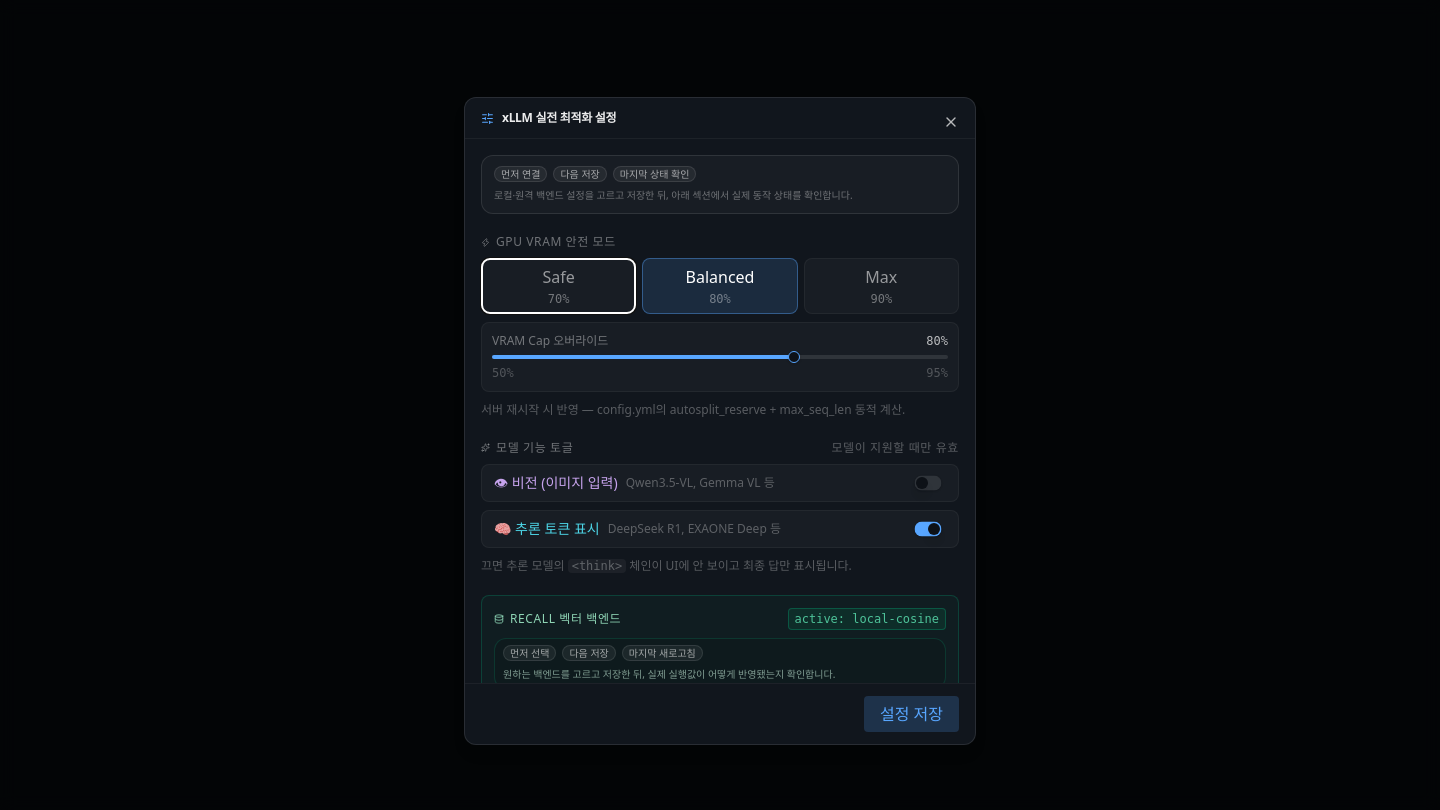
XllmPanel › 상단 설정 저장 실패 시 객체 오류를 사람이 읽을 수 있는 메시지로 노출한다
Click the button "설정 저장".
click(912, 714)  # box [864,696,959,732]
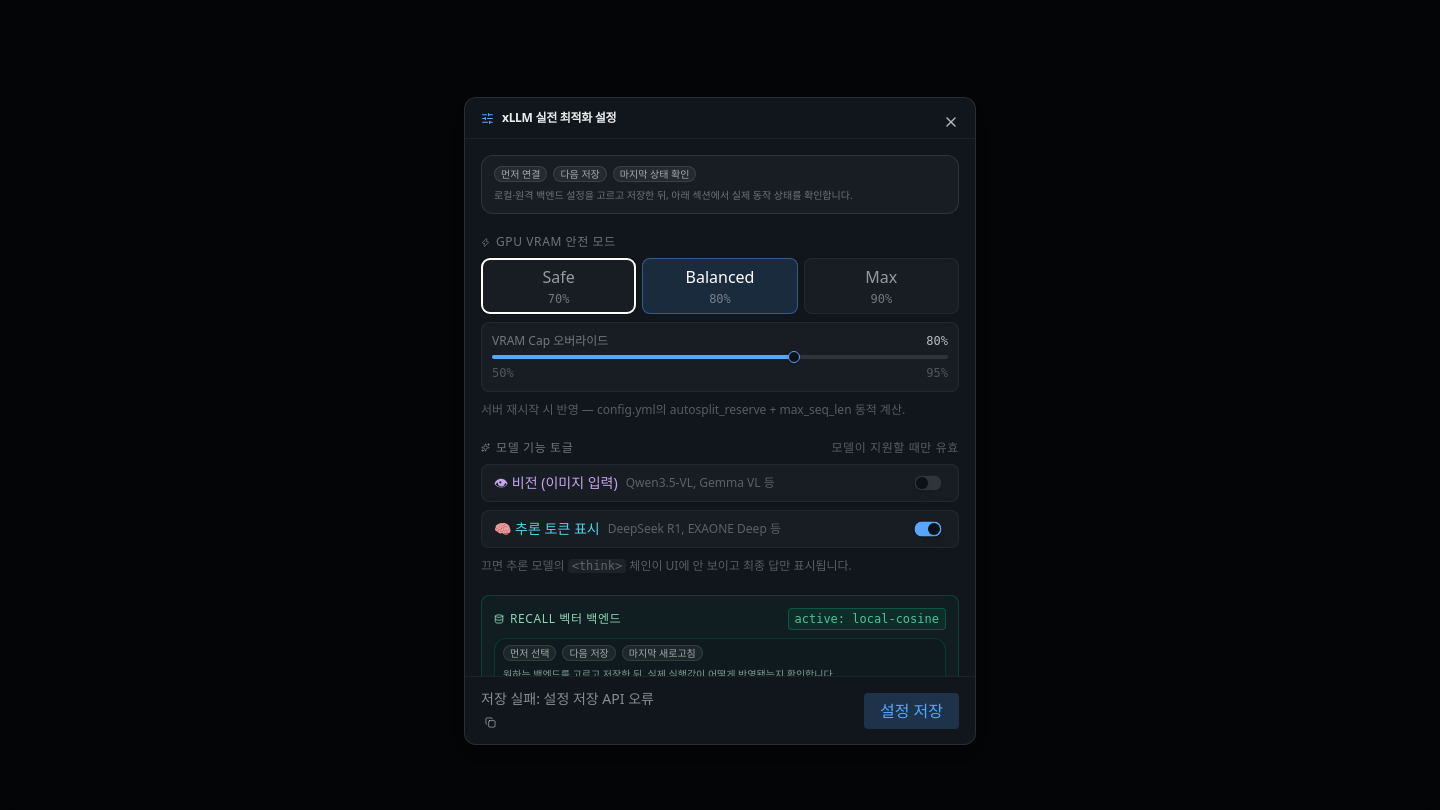
Expected: the text "저장 실패: 설정 저장 API 오류" is shown, [481,689,654,708]
